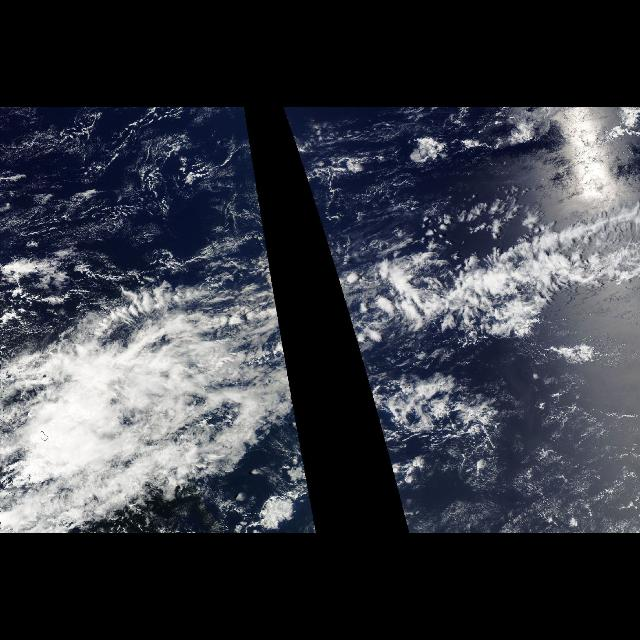Fish: (314, 204, 640, 370)
Gravel: (1, 113, 266, 255)
Sugar: (2, 113, 266, 240), (504, 378, 640, 534), (284, 113, 418, 240)
